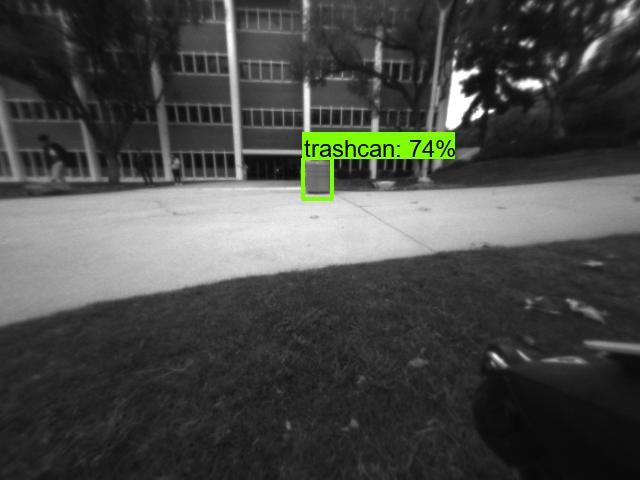trashcan: (305, 156, 336, 196)
